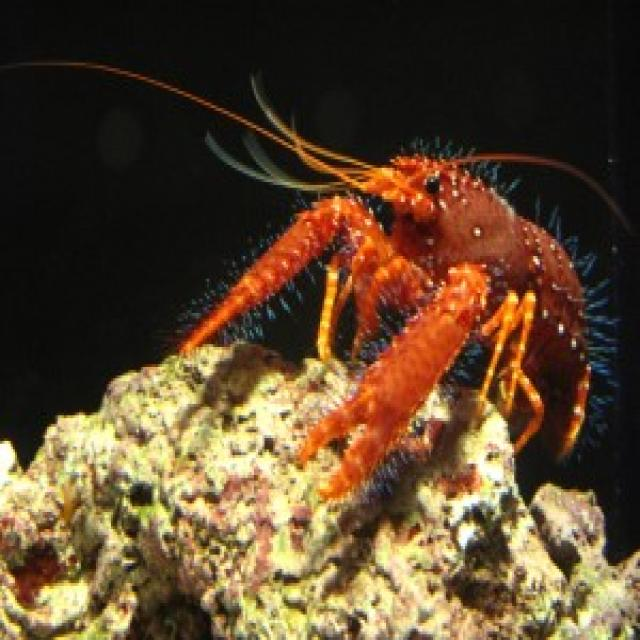lobsters: (175, 32, 640, 483)
